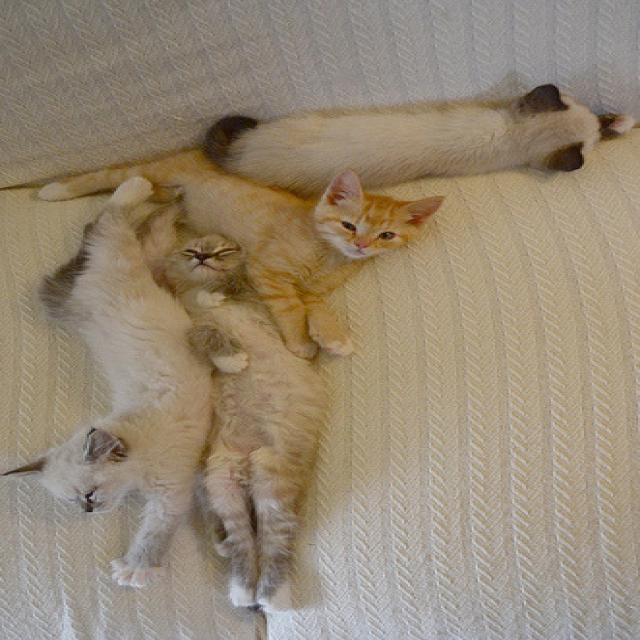cat: (31, 53, 640, 606)
